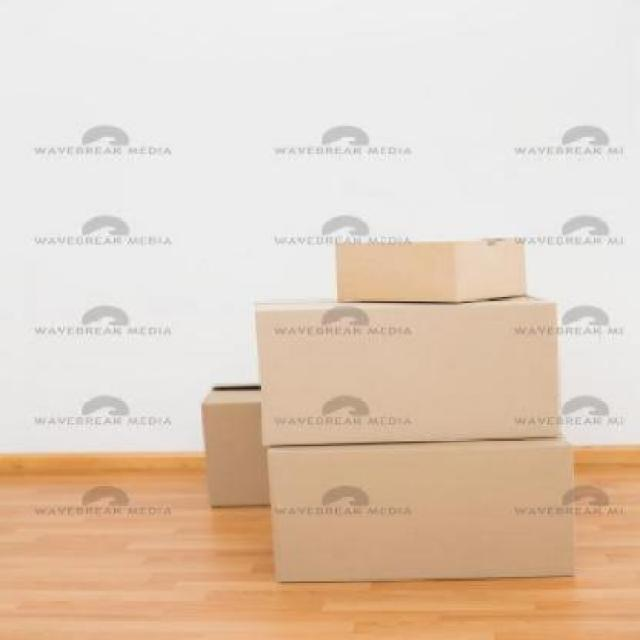box: (252, 427, 596, 604), (238, 296, 592, 447), (325, 220, 547, 312), (193, 385, 285, 526)
